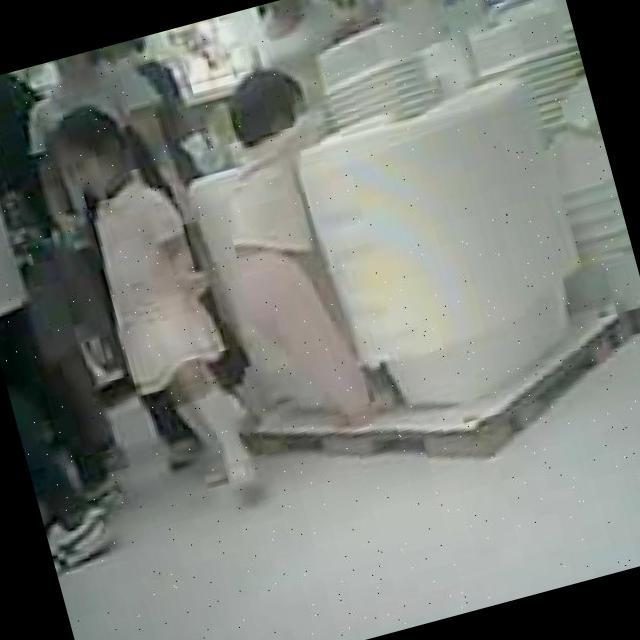person: (38, 83, 276, 520), (184, 60, 399, 447), (0, 72, 137, 574), (0, 68, 129, 481), (11, 34, 194, 240), (94, 31, 196, 186), (233, 0, 374, 97)
